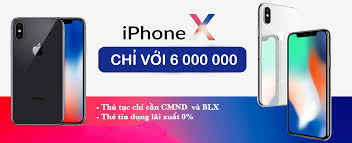iphone: (9, 14, 86, 124), (284, 27, 332, 138)
iphone10: (11, 16, 88, 126), (284, 27, 332, 138)
